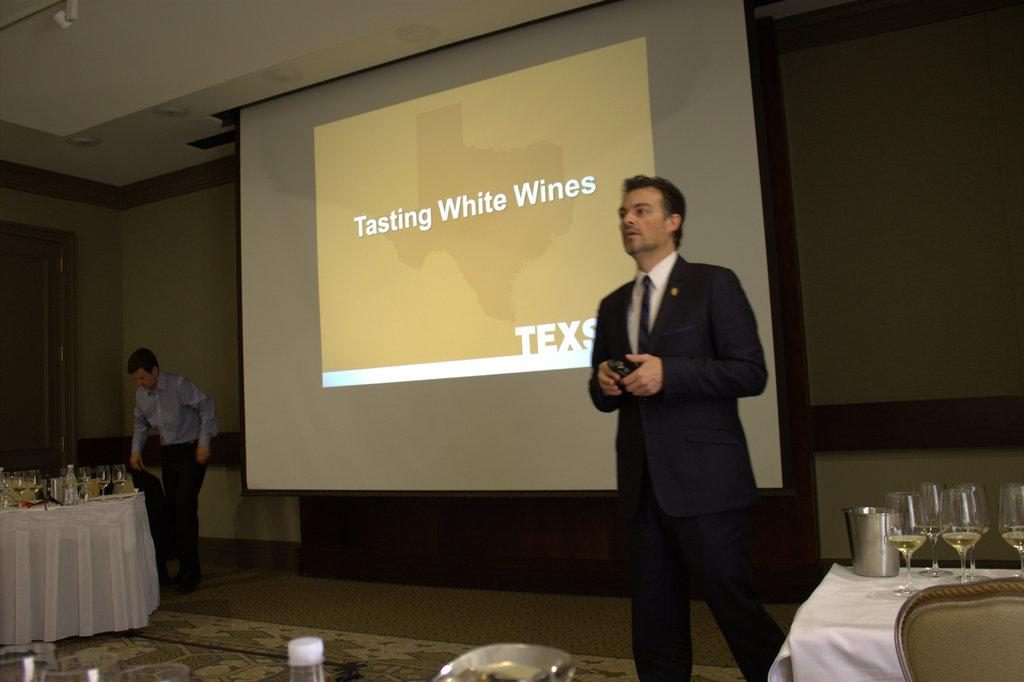Sem Máscara: (618, 185, 665, 250)
